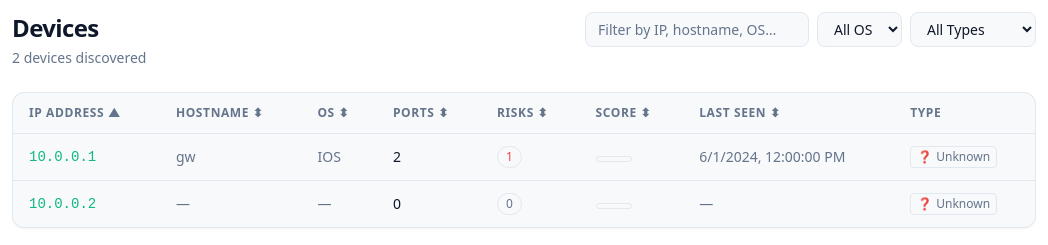
DevicesPage › filters by search input
The width and height of the screenshot is (1048, 245).
Expected: the link "10.0.0.1" is shown, [29,149,96,165]
Step 1. Type "10.0.0.1" into the search field → (697, 30), box [585,12,809,47]
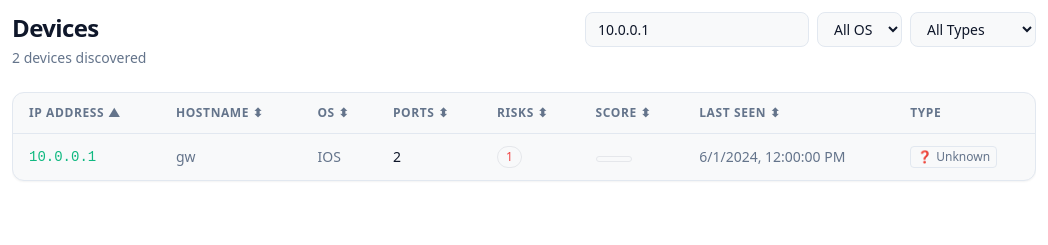
Expected: the link "10.0.0.1" is shown, [29,149,96,165]
Expected: the link "10.0.0.2" is gone
